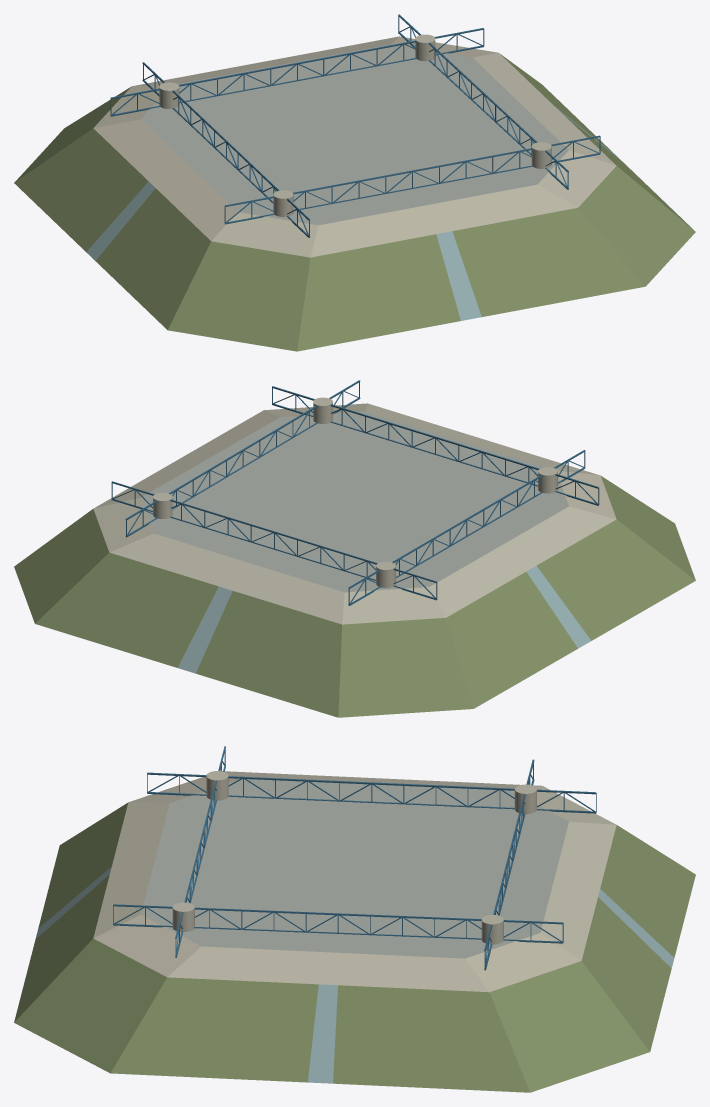
The model's file is accor-arena-bercy-near.glb.
3 views of the same model, one above another, from view 1: azimuth 30°, elevation 25°; view 2: azimuth 150°, elevation 25°; view 3: azimuth 270°, elevation 25° (orthographic). The views are drawn at different scales.
Visible parts, largest first — view 1: accor-arena-bercy-0-grass, accor-arena-bercy-0-roof, accor-arena-bercy-0-concrete, accor-arena-bercy-0-steel, accor-arena-bercy-0-glass; view 2: accor-arena-bercy-0-grass, accor-arena-bercy-0-roof, accor-arena-bercy-0-concrete, accor-arena-bercy-0-steel, accor-arena-bercy-0-glass; view 3: accor-arena-bercy-0-grass, accor-arena-bercy-0-roof, accor-arena-bercy-0-concrete, accor-arena-bercy-0-steel, accor-arena-bercy-0-glass.
Part boxes in pixels (bbox=[...]): accor-arena-bercy-0-grass: bbox=[14, 54, 695, 351]; accor-arena-bercy-0-roof: bbox=[141, 44, 568, 225]; accor-arena-bercy-0-concrete: bbox=[93, 34, 616, 257]; accor-arena-bercy-0-steel: bbox=[110, 14, 600, 237]; accor-arena-bercy-0-glass: bbox=[86, 107, 623, 320]; accor-arena-bercy-0-grass: bbox=[14, 476, 695, 717]; accor-arena-bercy-0-roof: bbox=[141, 411, 568, 592]; accor-arena-bercy-0-concrete: bbox=[93, 397, 616, 624]; accor-arena-bercy-0-steel: bbox=[111, 380, 599, 605]; accor-arena-bercy-0-glass: bbox=[178, 566, 591, 673]; accor-arena-bercy-0-grass: bbox=[14, 802, 695, 1092]; accor-arena-bercy-0-roof: bbox=[141, 779, 568, 958]; accor-arena-bercy-0-concrete: bbox=[93, 771, 616, 992]; accor-arena-bercy-0-steel: bbox=[113, 746, 596, 970]; accor-arena-bercy-0-glass: bbox=[35, 866, 674, 1083].
Bounding box in the file's own units: 183 × 30 × 183.
